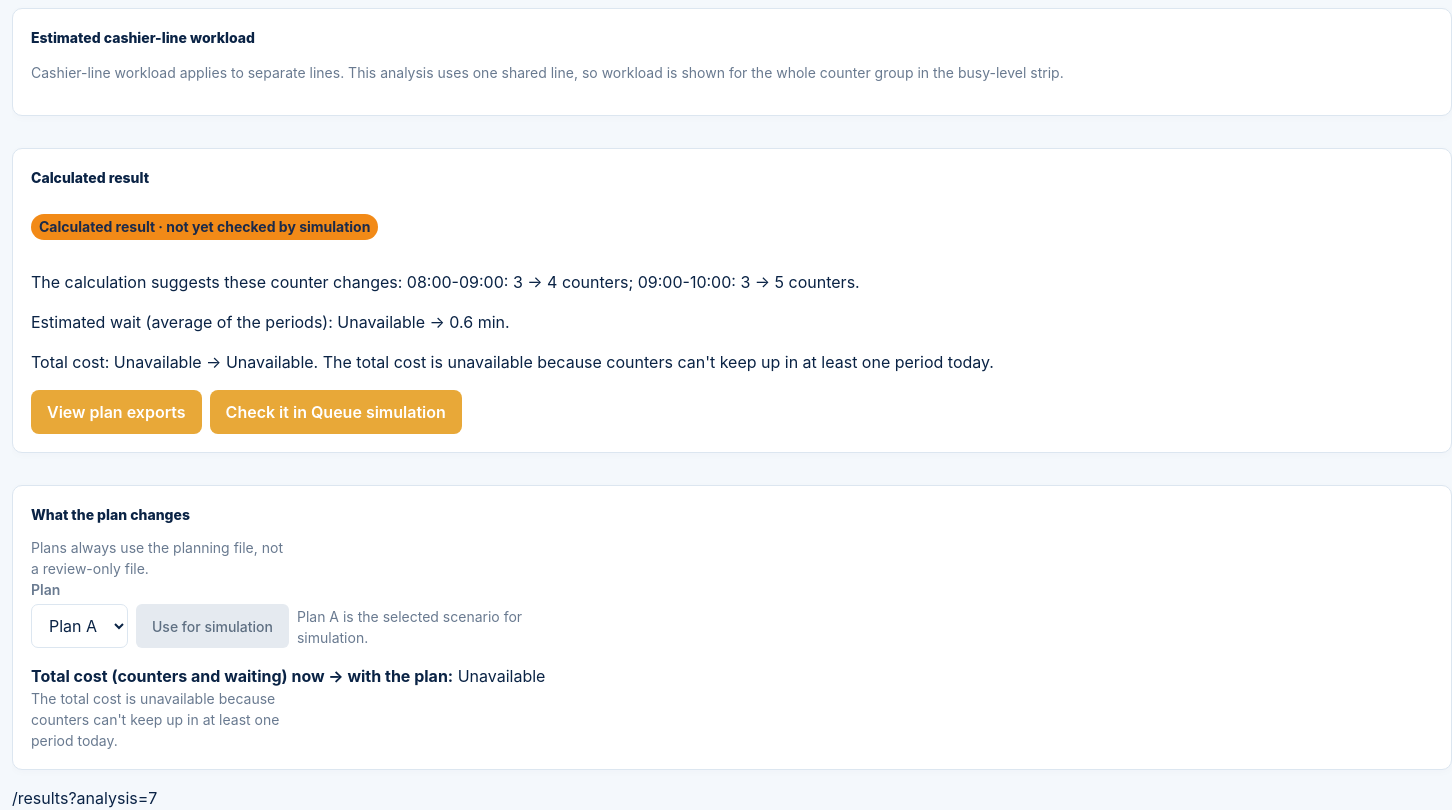
Scenario: Analysis results: the planning file › switches between saved plans and confirms each successful server selection
(page scrolled)
Select "Plan B" in the dropdown labelled "Plan" at (80, 626), box [31,604,128,648]
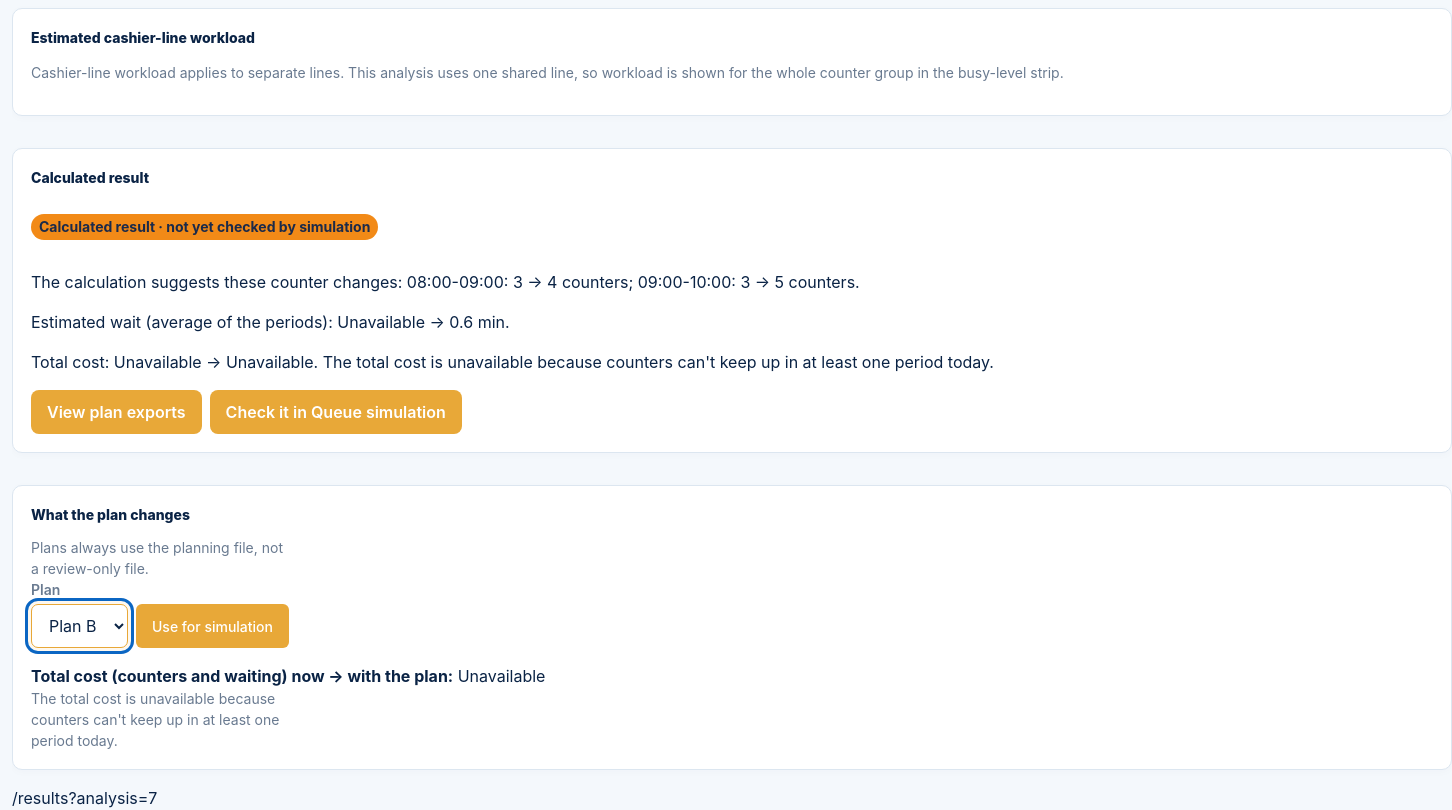
Click the button "Use for simulation".
click(212, 626)  # box [136,604,289,648]
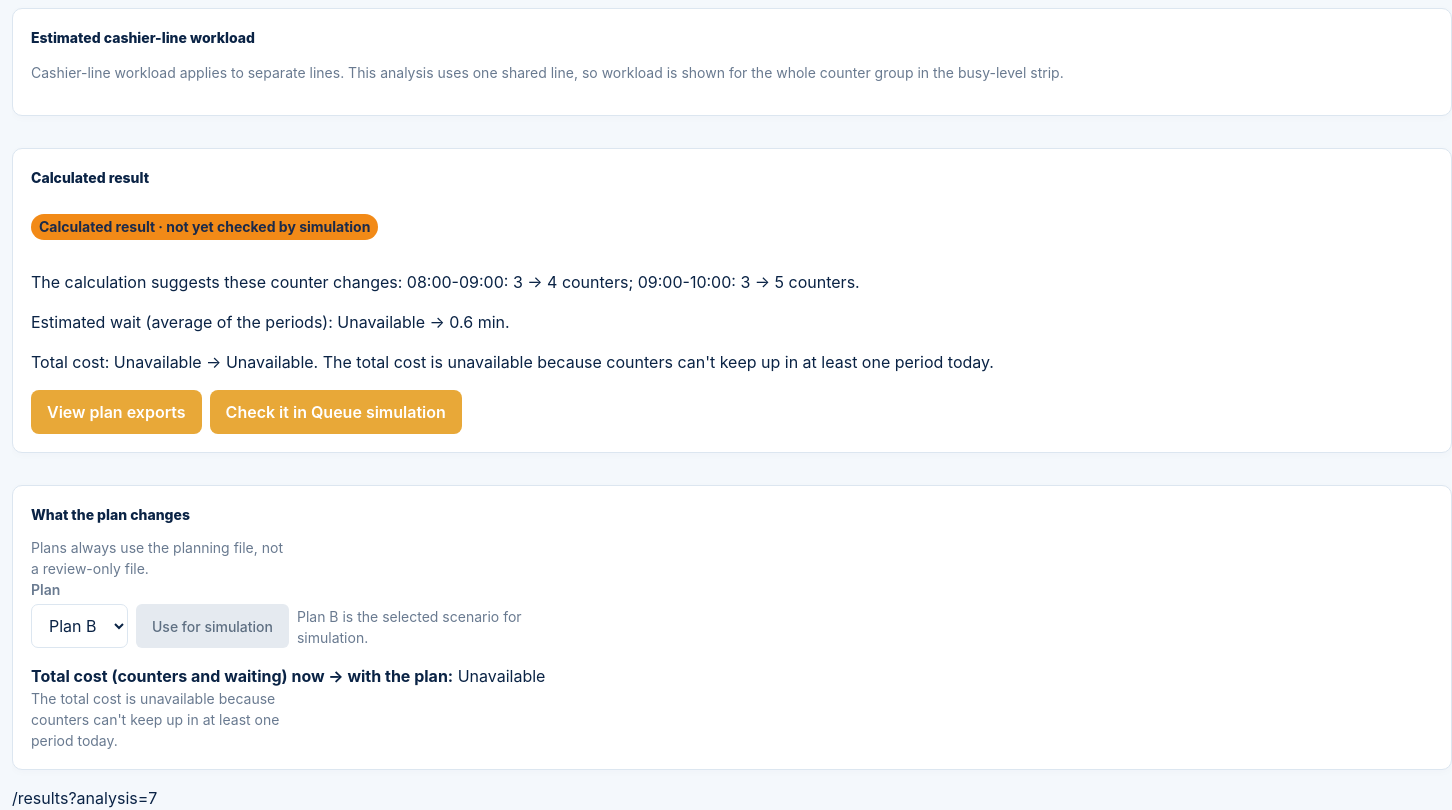
expect the text "Plan B is the selected scenario for simulation." is shown: met, box [297,606,553,648]
expect the button "Use for simulation" is disabled: met, box [136,604,289,648]
Select "Plan A" in the dropdown labelled "Plan" at (80, 626), box [31,604,128,648]
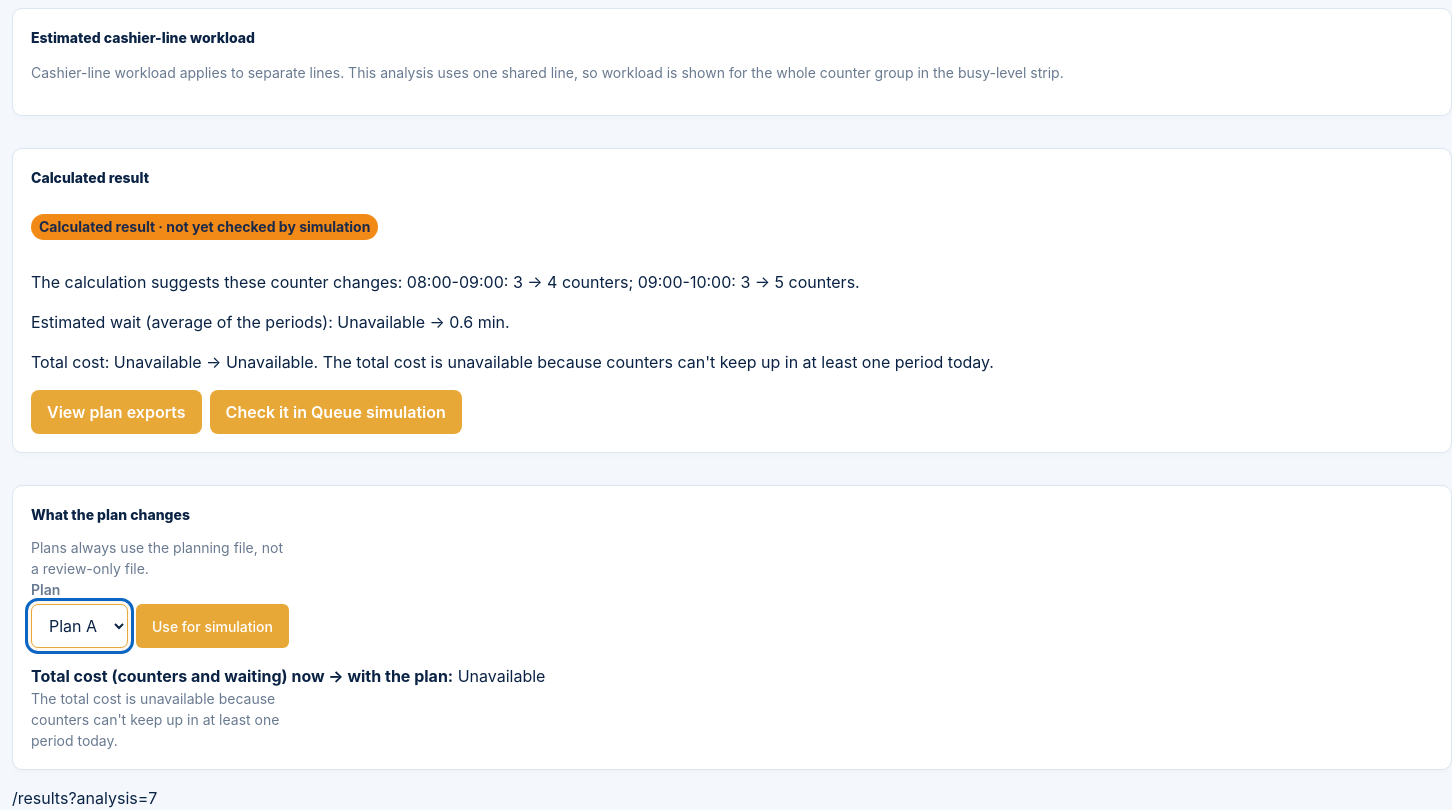
Click the button "Use for simulation".
click(212, 626)  # box [136,604,289,648]
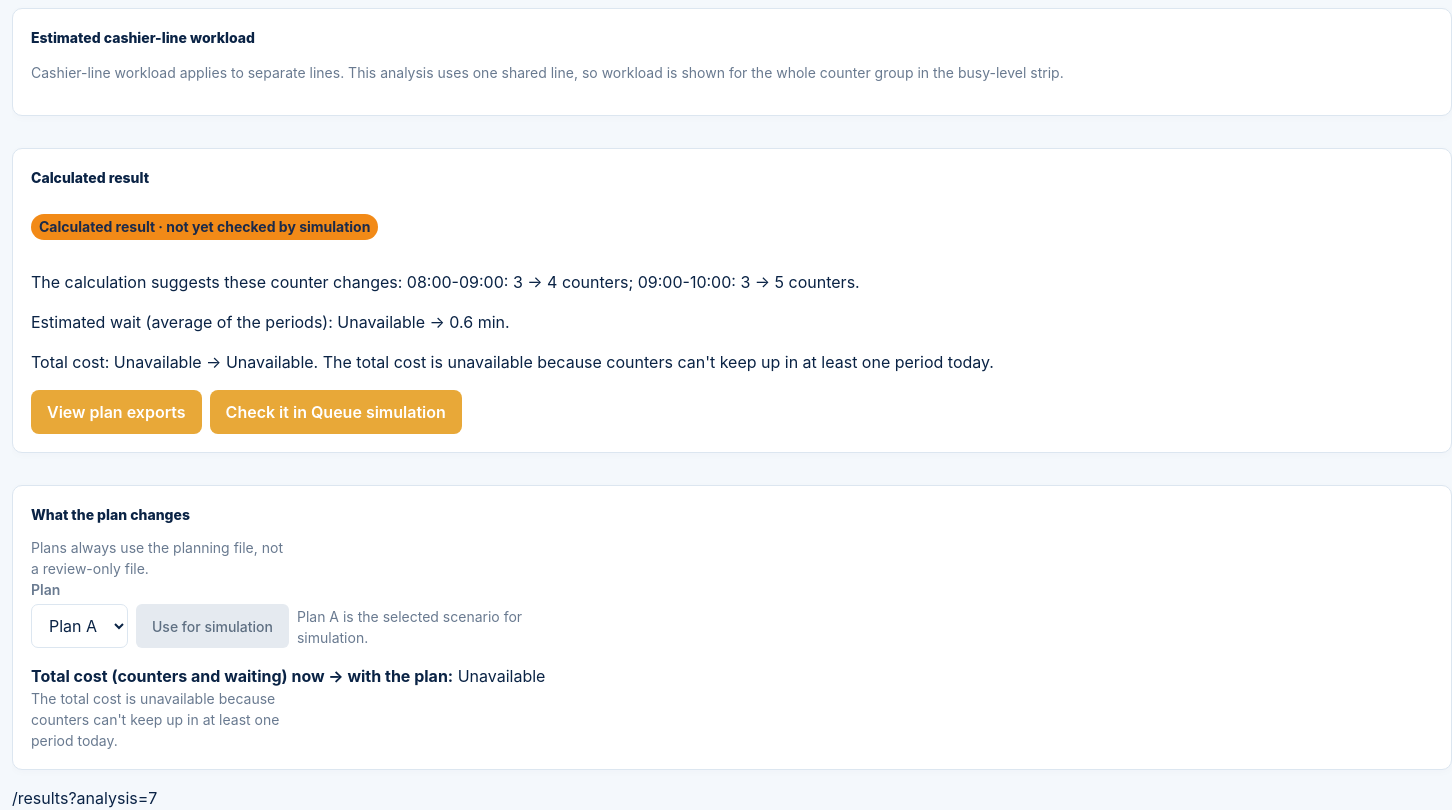
expect the text "Plan A is the selected scenario for simulation." is shown: met, box [297,606,553,648]
